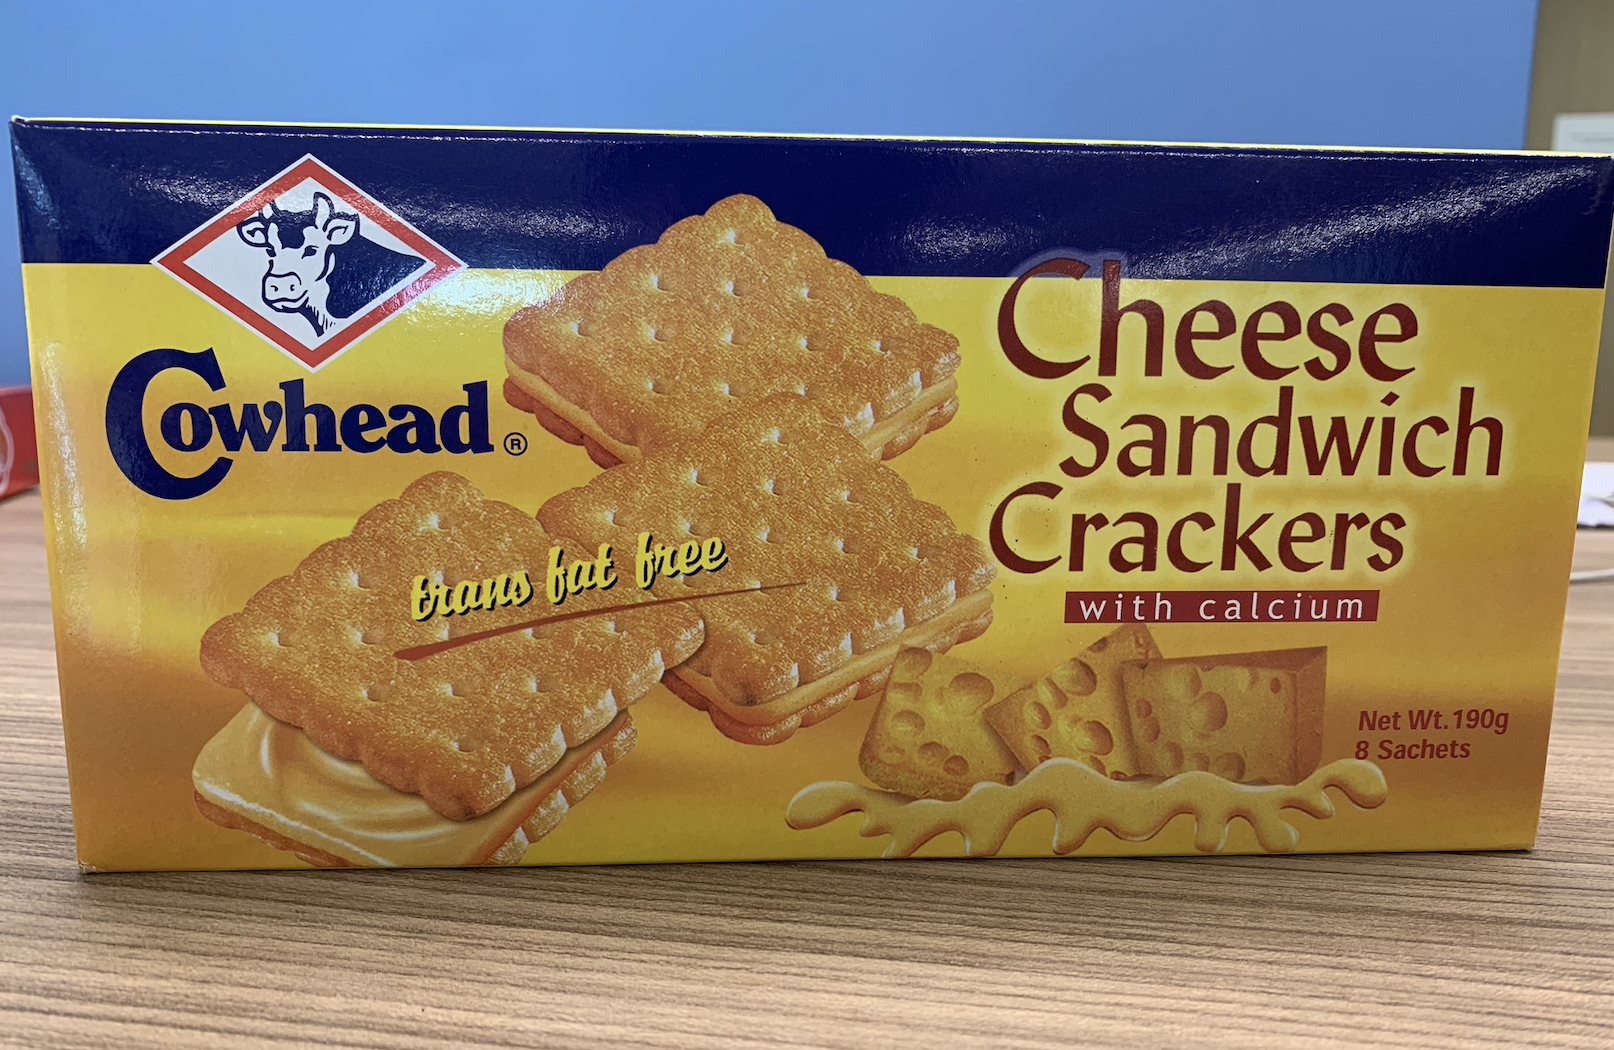crackers_150g: (82, 163, 1530, 838)
